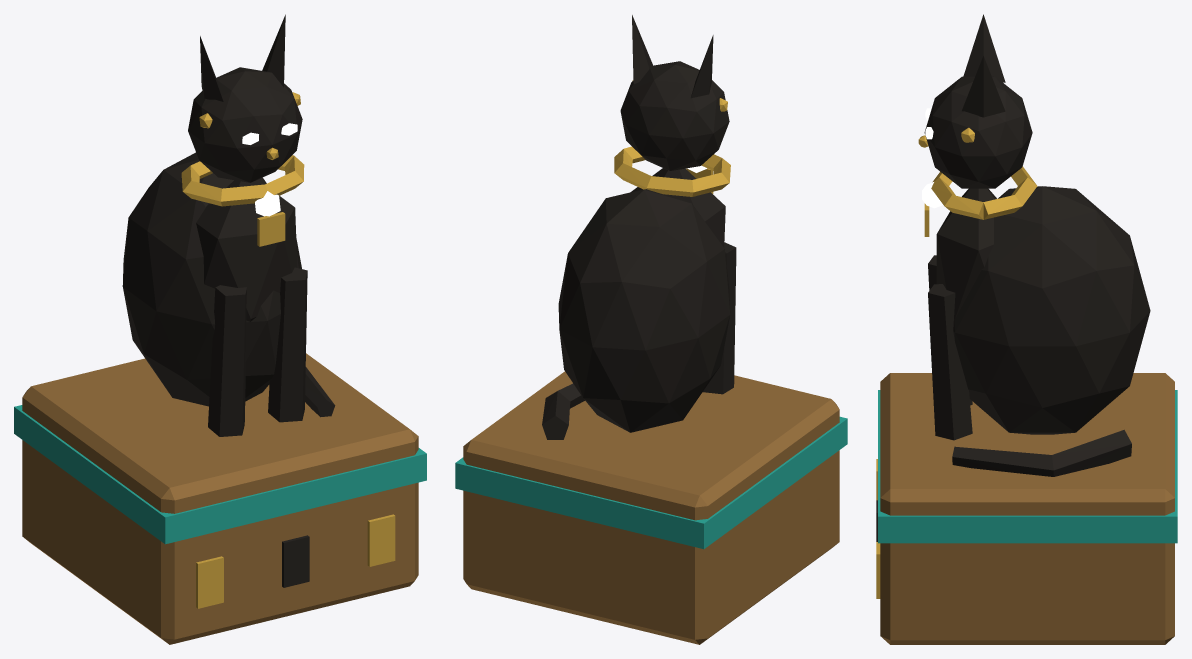
The model's file is kit-egypt-decor-3.glb.
3 renders of one model, left to right at view 1: azimuth 30°, elevation 25°; view 2: azimuth 150°, elevation 25°; view 3: azimuth 270°, elevation 25°, orthographic. The views are drawn at different scales.
Visible parts, largest first — view 1: kit-egypt-decor-3; view 2: kit-egypt-decor-3; view 3: kit-egypt-decor-3.
Boxes of the visible parts, x1,y1,x2,y2 form: kit-egypt-decor-3: (14, 14, 426, 644); kit-egypt-decor-3: (455, 15, 847, 644); kit-egypt-decor-3: (876, 14, 1177, 644).
Bounding box in the file's own units: 0.61 × 1.24 × 0.613.
